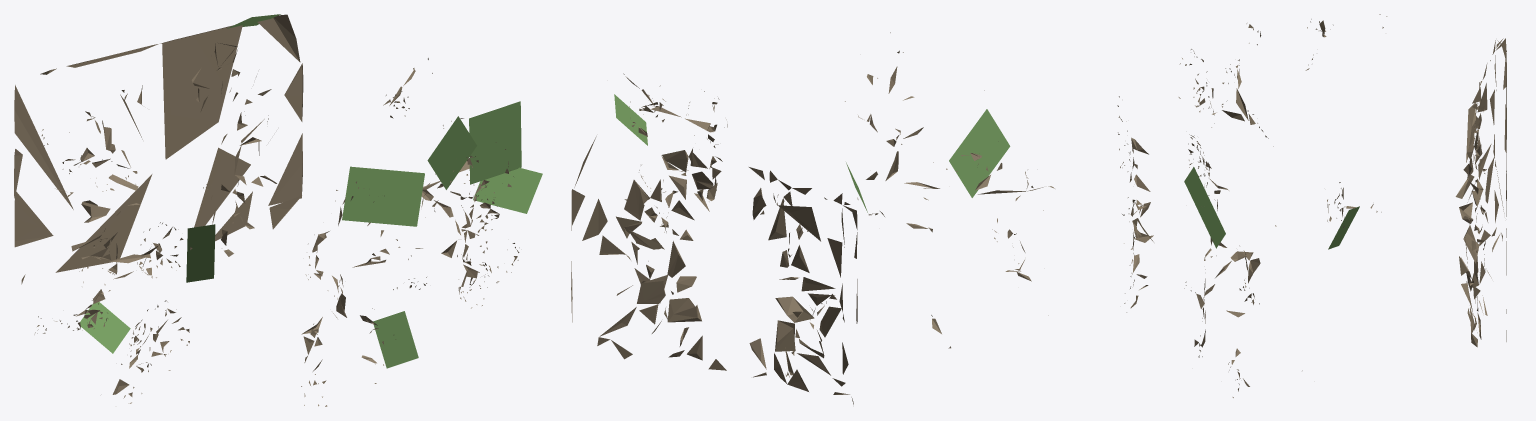
The model's file is branch_ancient_a.glb.
The picture shows the model from 3 angles, left to right: view 1: azimuth 30°, elevation 25°; view 2: azimuth 150°, elevation 25°; view 3: azimuth 270°, elevation 25°; orthographic projection.
Parts seen in each view (by area): view 1: wood, leaves; view 2: wood, leaves; view 3: wood, leaves.
Part boxes in pixels (<box>): wood: <box>14,14,519,406</box>; leaves: <box>80,14,542,368</box>; wood: <box>571,32,1054,404</box>; leaves: <box>614,94,1010,212</box>; wood: <box>1117,14,1506,397</box>; leaves: <box>1184,167,1359,249</box>.
Size of the model in its own units: 5.44 by 2.65 by 4.25.
